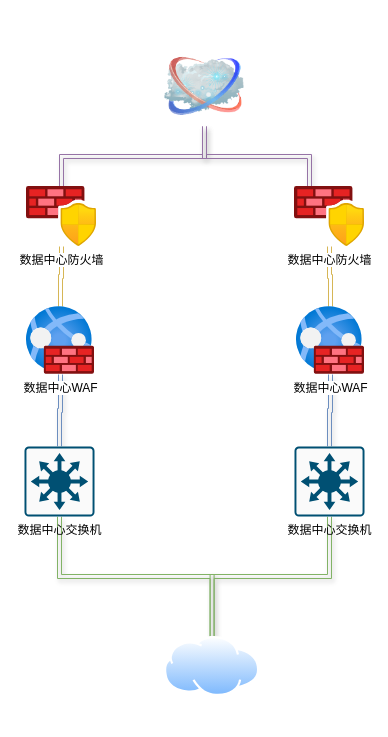
Image size: 388x737. Some labels were removed from this diagram. Here are the shapes that lost their labels. From the top down, the centre of each, then its label:
point 204,86: 校园网
point 211,666: 云平台
